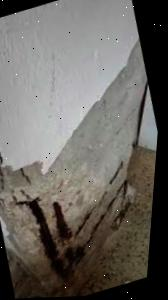exposed_rebar: (17, 199, 84, 279), (52, 201, 71, 240)
spalling: (9, 156, 132, 296)
